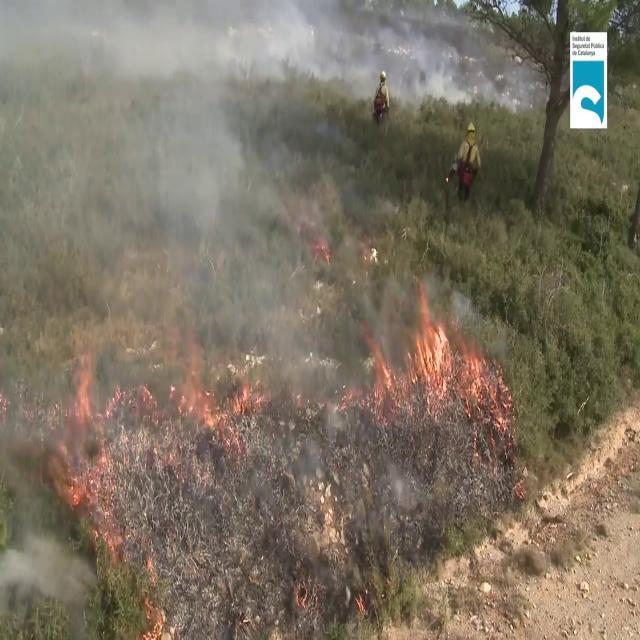Fire: (398, 282, 491, 409), (70, 344, 98, 430)
Smoke: (2, 0, 385, 396)
